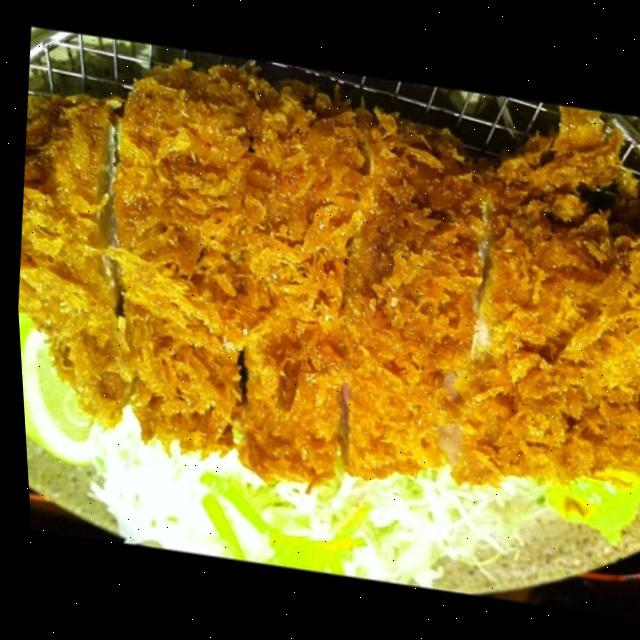牛肉菜式: (1, 22, 640, 594)
